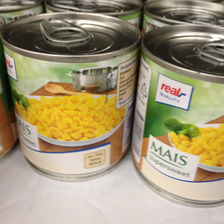corn: (2, 11, 141, 180), (131, 22, 224, 204)
